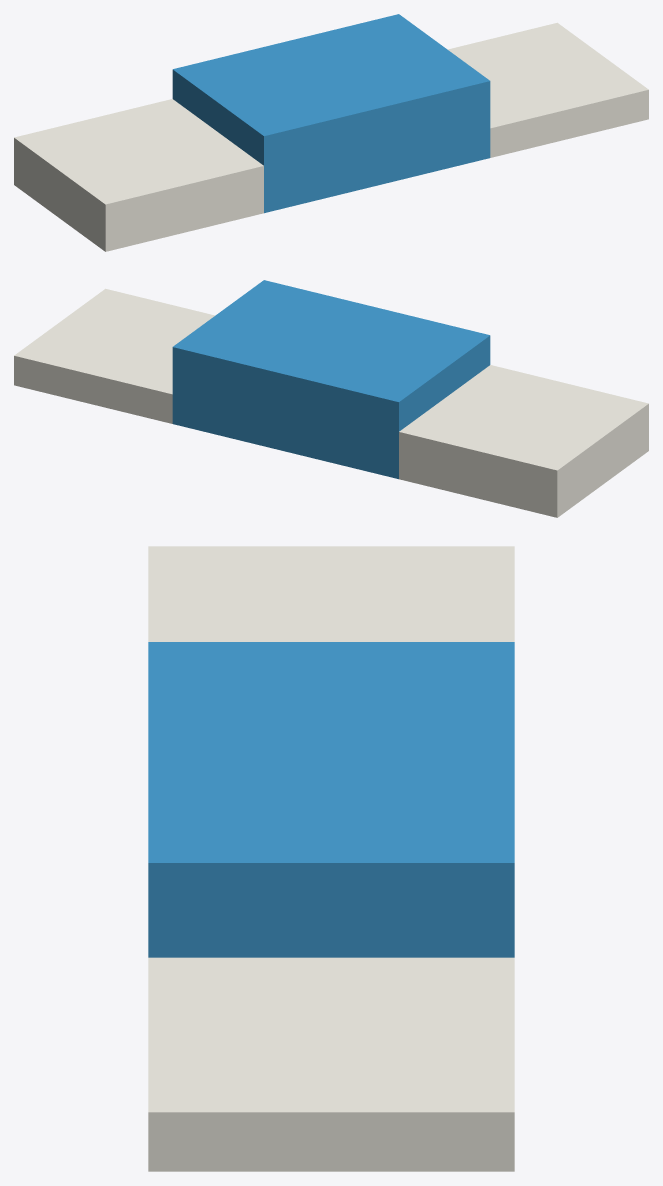
File: stock-car-oval-speedway-victory-lane-stage-daf11670__16950.glb
3 views of the same model, one above another, from view 1: azimuth 30°, elevation 25°; view 2: azimuth 150°, elevation 25°; view 3: azimuth 270°, elevation 25° (orthographic). The views are drawn at different scales.
Visible parts, largest first — view 1: victory-lane-stage; view 2: victory-lane-stage; view 3: victory-lane-stage.
Boxes of the visible parts, x1,y1,x2,y2 form: victory-lane-stage: [14, 14, 648, 251]; victory-lane-stage: [14, 280, 648, 517]; victory-lane-stage: [148, 546, 514, 1171].
Size of the model in its own units: 4.8 by 0.6501 by 1.4.
